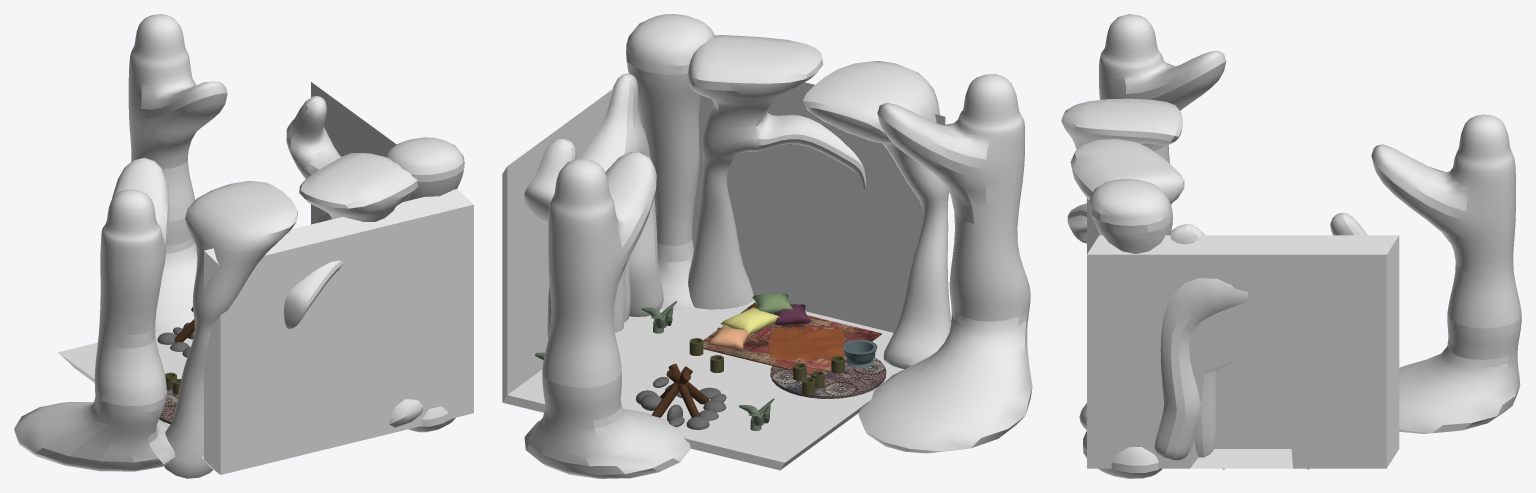
File: GGJ_2026-Home.fbx
3 views of the same model, side by side, from view 1: azimuth 30°, elevation 25°; view 2: azimuth 150°, elevation 25°; view 3: azimuth 270°, elevation 25° (orthographic). The views are drawn at different scales.
Parts seen in each view (by area): view 1: Cube.008, Cube.017, Cube.016, Cube.010, Cube.011, Cube.009, Cube.014; view 2: Cube.008, Cube.017, Cube.016, Cube.011, Cube.010, Cube.009, Cube.014, Cube.015, Cylinder.001, Plane.004, Plane.001, Cylinder.011 (+4 smaller); view 3: Cube.008, Cube.016, Cube.014, Cube.017, Cube.009, Cube.011, Cube.010, Cube.013.
Part boxes in pixels (x1,y1,x2,y2): Cube.008: (58,82,473,474); Cube.017: (14,157,175,471); Cube.016: (128,14,227,332); Cube.010: (164,181,297,478); Cube.011: (284,152,423,427); Cube.009: (385,137,464,432); Cube.014: (286,96,341,178); Cube.008: (502,82,945,470); Cube.017: (858,74,1032,453); Cube.016: (524,152,690,478); Cube.011: (688,35,865,309); Cube.010: (803,61,951,368); Cube.009: (626,14,714,309); Cube.014: (524,73,663,316); Cube.015: (703,302,881,375); Cylinder.001: (770,357,886,398); Plane.004: (768,326,844,360); Plane.001: (720,306,779,334); Cylinder.011: (843,339,877,367); Cube.008: (1087,198,1399,468); Cube.016: (1371,114,1521,433); Cube.014: (1154,212,1367,460); Cube.017: (1099,14,1226,205); Cube.009: (1083,179,1172,478); Cube.011: (1067,139,1184,430); Cube.010: (1061,98,1182,149); Cube.013: (1195,370,1218,457).
Bounding box in the file's own units: 11.08 × 10.91 × 8.05.
